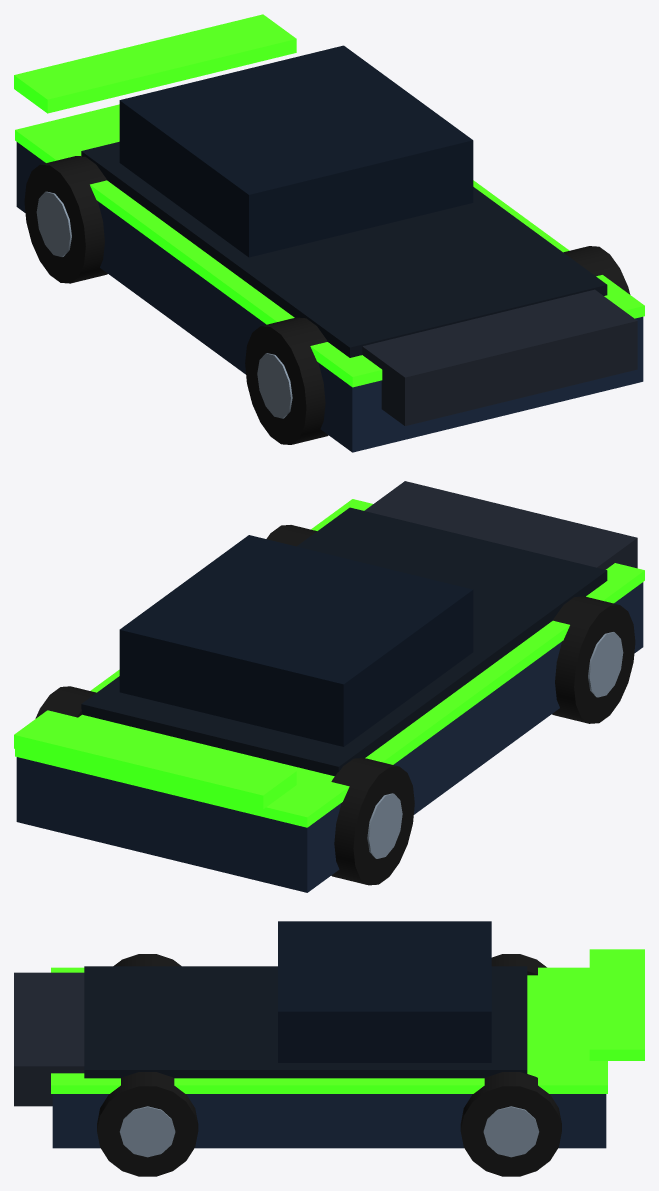
The model's file is tc_run.glb.
3 views of the same model, one above another, from view 1: azimuth 30°, elevation 25°; view 2: azimuth 150°, elevation 25°; view 3: azimuth 270°, elevation 25° (orthographic). The views are drawn at different scales.
Parts seen in each view (by area): view 1: TC Runner; view 2: TC Runner; view 3: TC Runner.
Boxes of the visible parts, x1=… form: TC Runner: x1=14, y1=14, x2=644, y2=452; TC Runner: x1=14, y1=481, x2=644, y2=892; TC Runner: x1=14, y1=921, x2=644, y2=1176.
Bounding box in the file's own units: 2 × 1.01 × 3.99.
